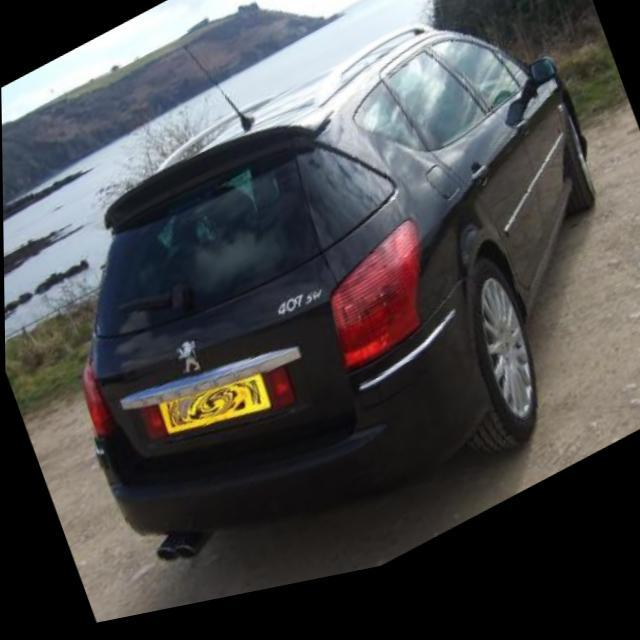license_plate: (156, 361, 272, 466)
